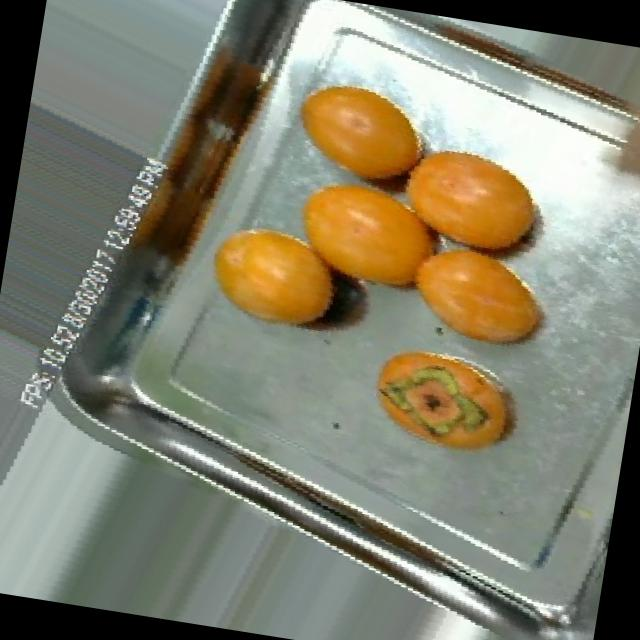Fruit: (270, 157, 474, 320), (346, 320, 550, 480), (378, 124, 572, 278), (183, 198, 366, 354), (389, 225, 572, 373), (272, 59, 453, 204)
